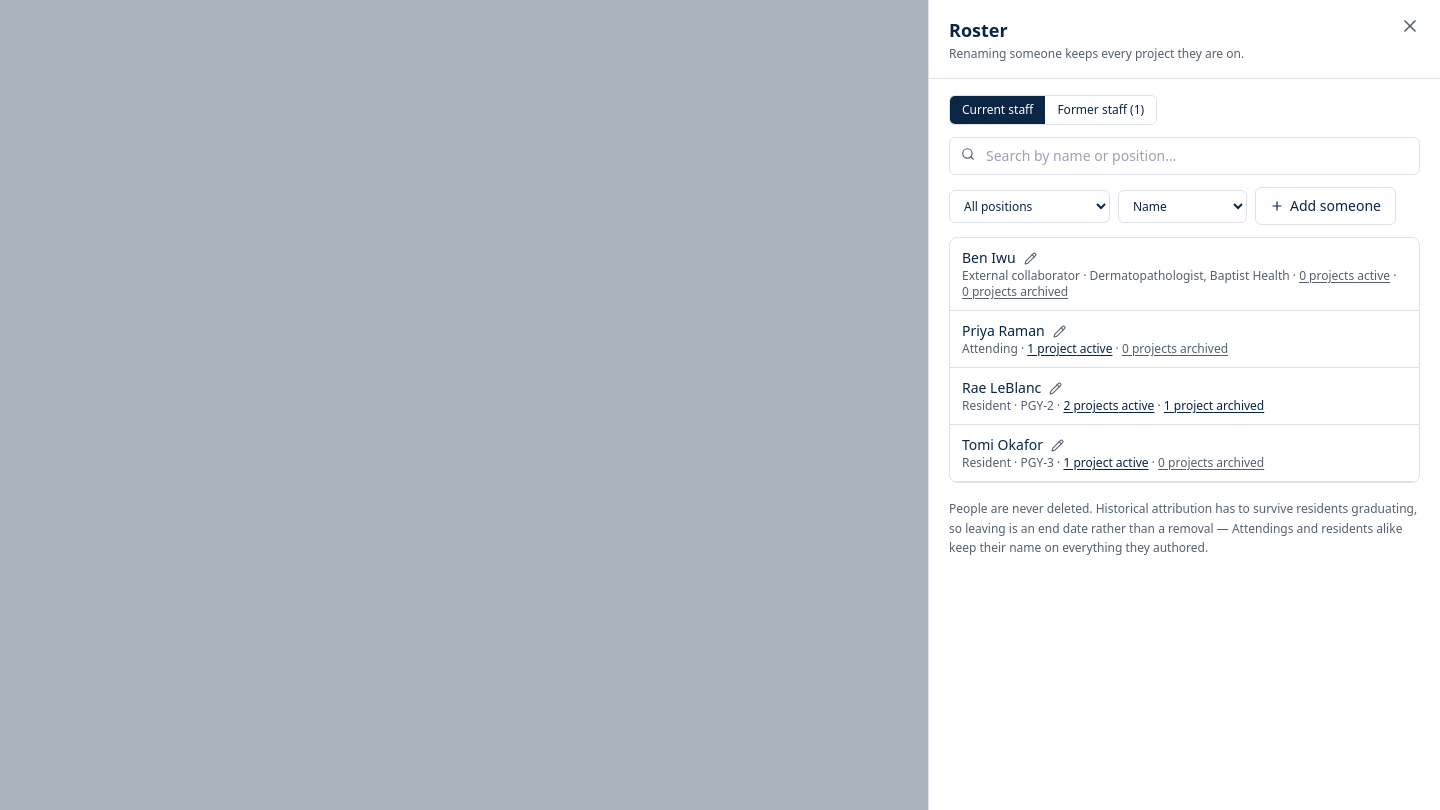
Test: current and former staff are separate views › says when someone left, rather than fading the row
The image size is (1440, 810).
Click the tab "Former staff (1)" at [1101, 110], box top-left (1045, 96), bottom-right (1156, 124)
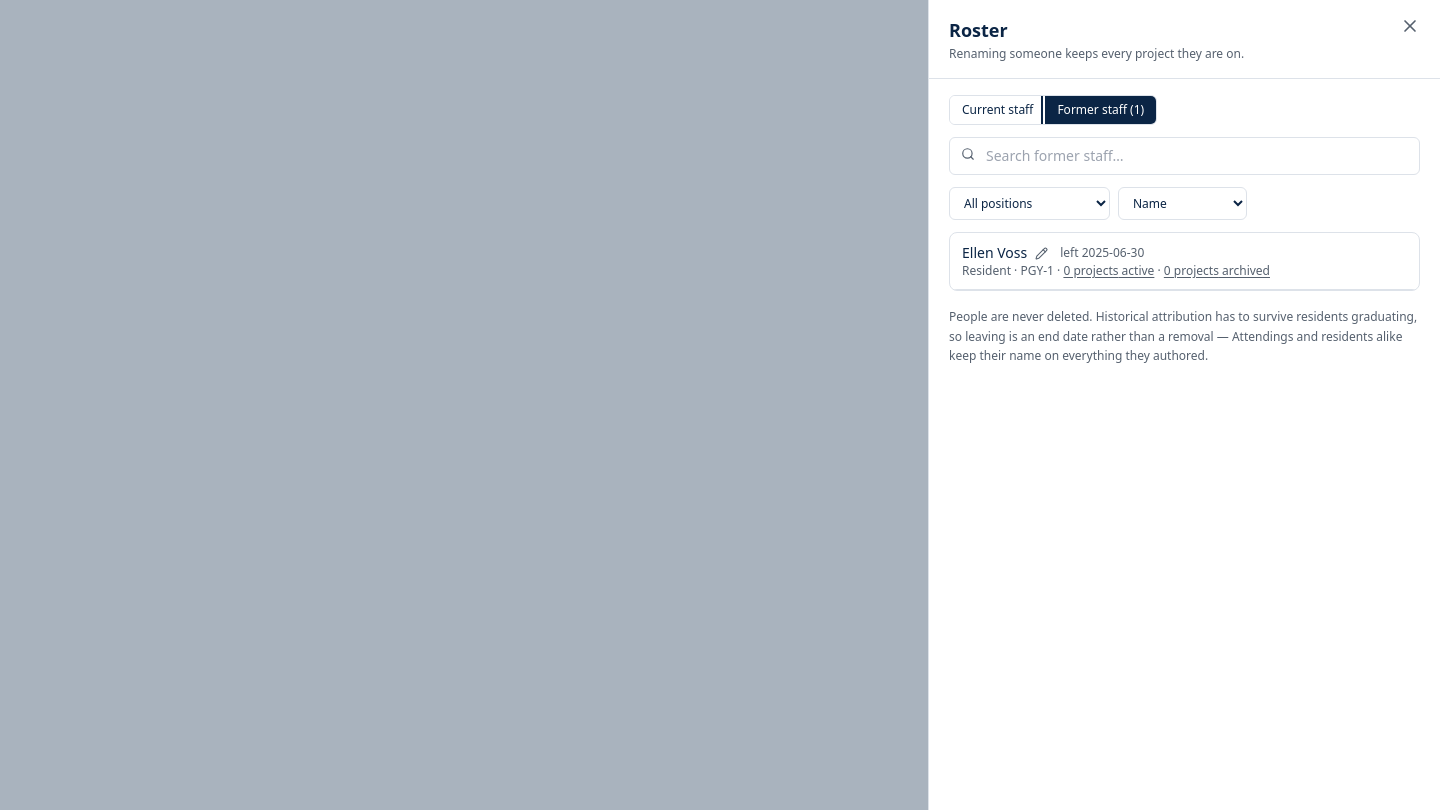
Check: the text "left 2025-06-30" is shown, box top-left (1060, 245), bottom-right (1144, 261)
